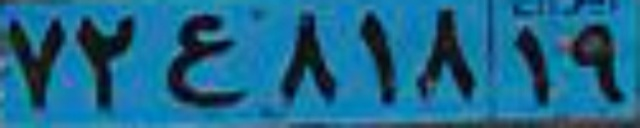1: (352, 12, 400, 107), (511, 24, 554, 105)
2: (76, 15, 134, 112)
7: (5, 17, 66, 111)
8: (271, 10, 339, 104), (417, 7, 481, 104)
9: (571, 23, 628, 101)
ain: (165, 13, 248, 107)
